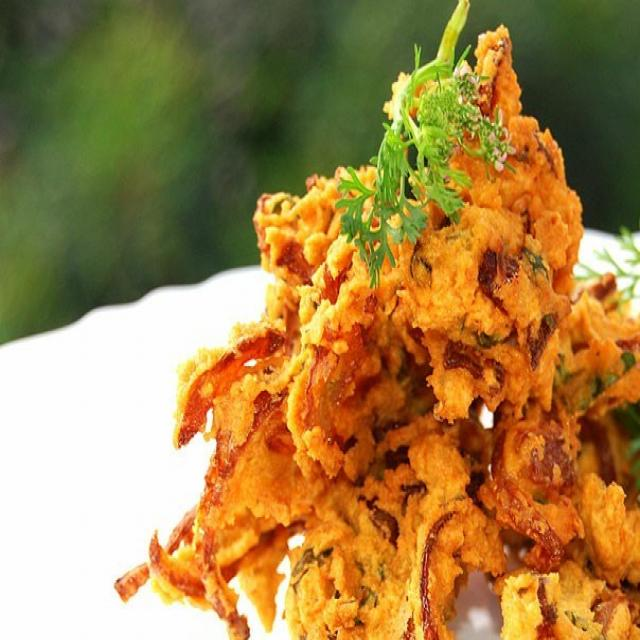Onion Pakora: (110, 18, 640, 640)
